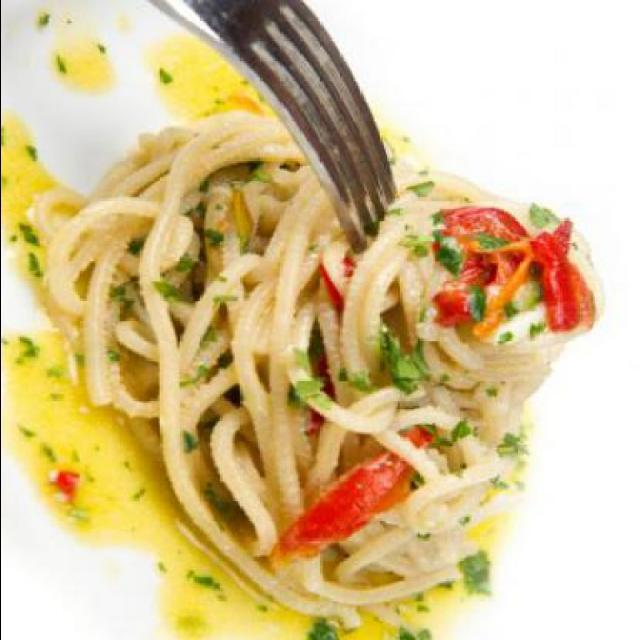Oil pasta: (70, 146, 604, 617)
